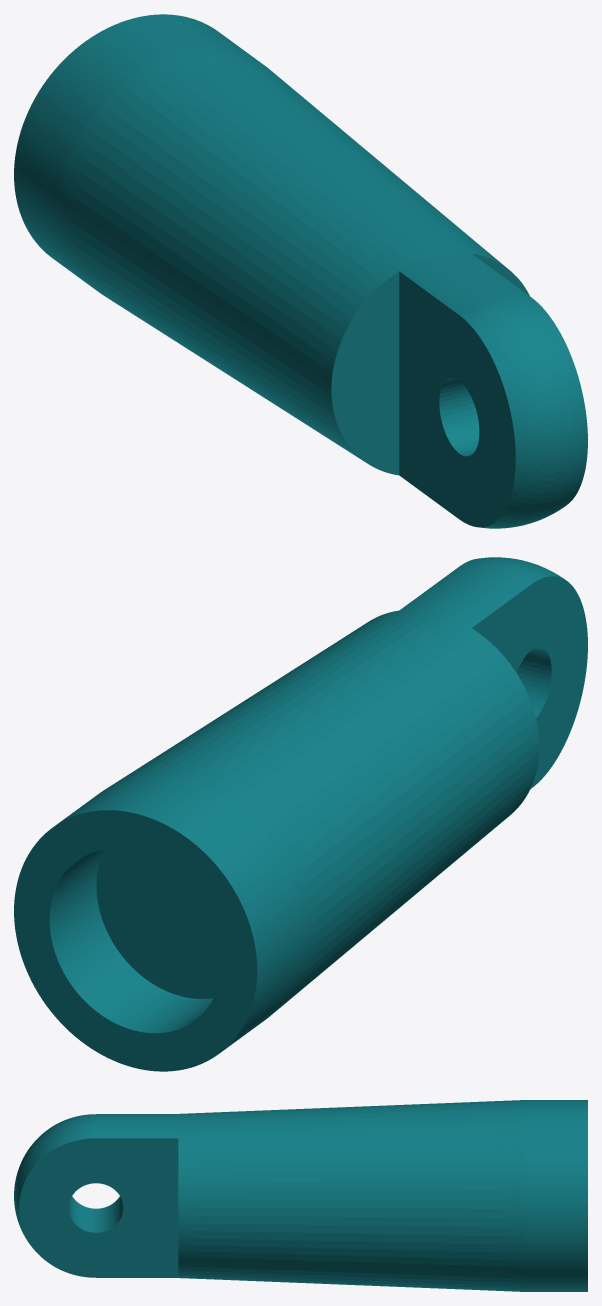
3 renders of one model, top to bottom at view 1: azimuth 30°, elevation 25°; view 2: azimuth 150°, elevation 25°; view 3: azimuth 270°, elevation 25°, orthographic. The views are drawn at different scales.
Visible parts, largest first — view 1: node; view 2: node; view 3: node.
Boxes of the visible parts, x1,y1,x2,y2 form: node: (14,14,587,528); node: (14,557,587,1071); node: (14,1100,587,1291).
Size of the model in its own units: 0.0555 by 0.0555 by 0.166.
